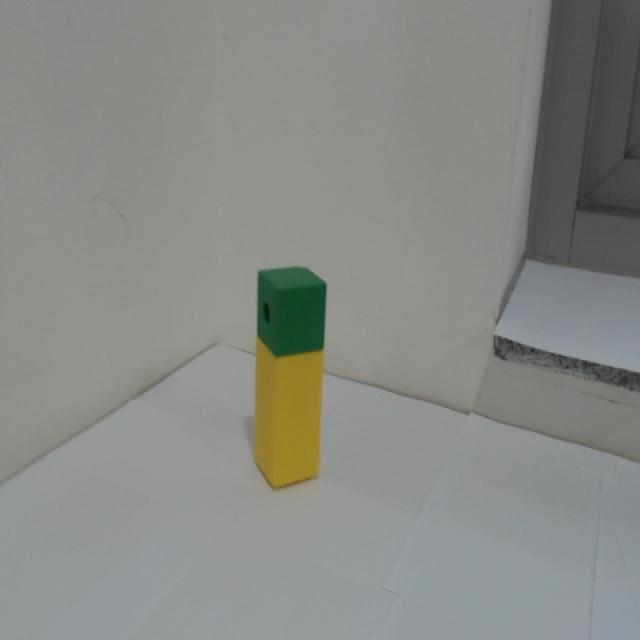cube: (249, 248, 330, 367)
